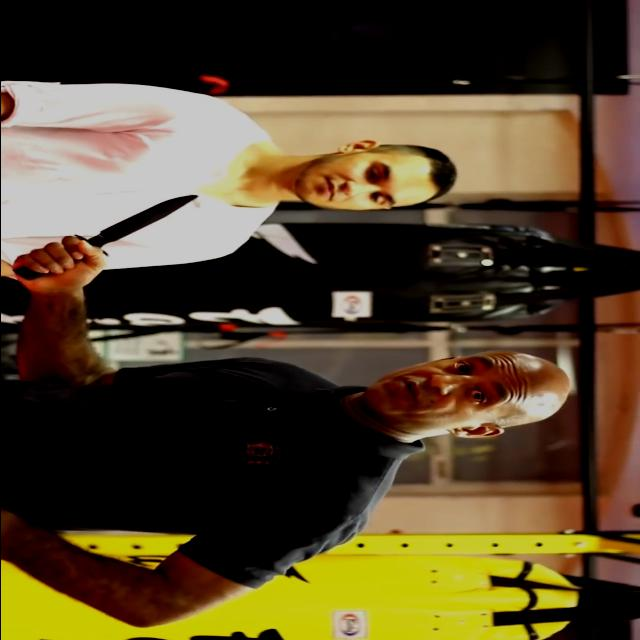knife: (3, 192, 201, 283)
